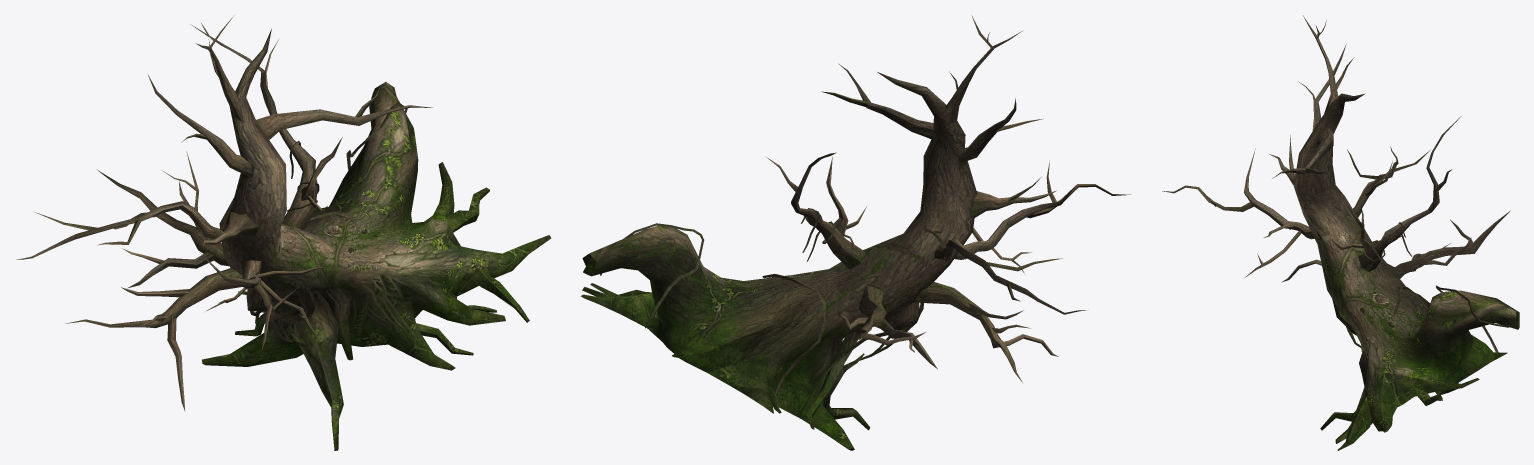
File: zz_duanshu_3.FBX
3 views of the same model, side by side, from view 1: azimuth 30°, elevation 25°; view 2: azimuth 150°, elevation 25°; view 3: azimuth 270°, elevation 25° (orthographic). The views are drawn at different scales.
Parts seen in each view (by area): view 1: zz_duanshu_3; view 2: zz_duanshu_3; view 3: zz_duanshu_3.
Part boxes in pixels (bbox=[...]): zz_duanshu_3: bbox=[16, 16, 551, 450]; zz_duanshu_3: bbox=[580, 15, 1130, 450]; zz_duanshu_3: bbox=[1162, 15, 1519, 450].
Size of the model in its own units: 2334 by 1948 by 1735.
